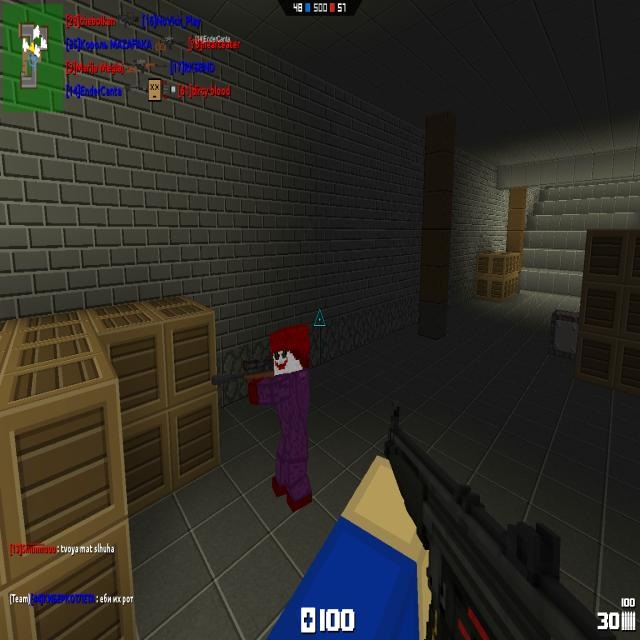enemy: (247, 319, 312, 512)
